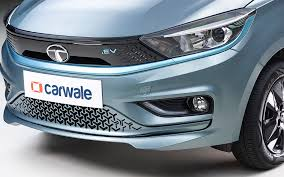Tiago: (1, 1, 284, 173)
